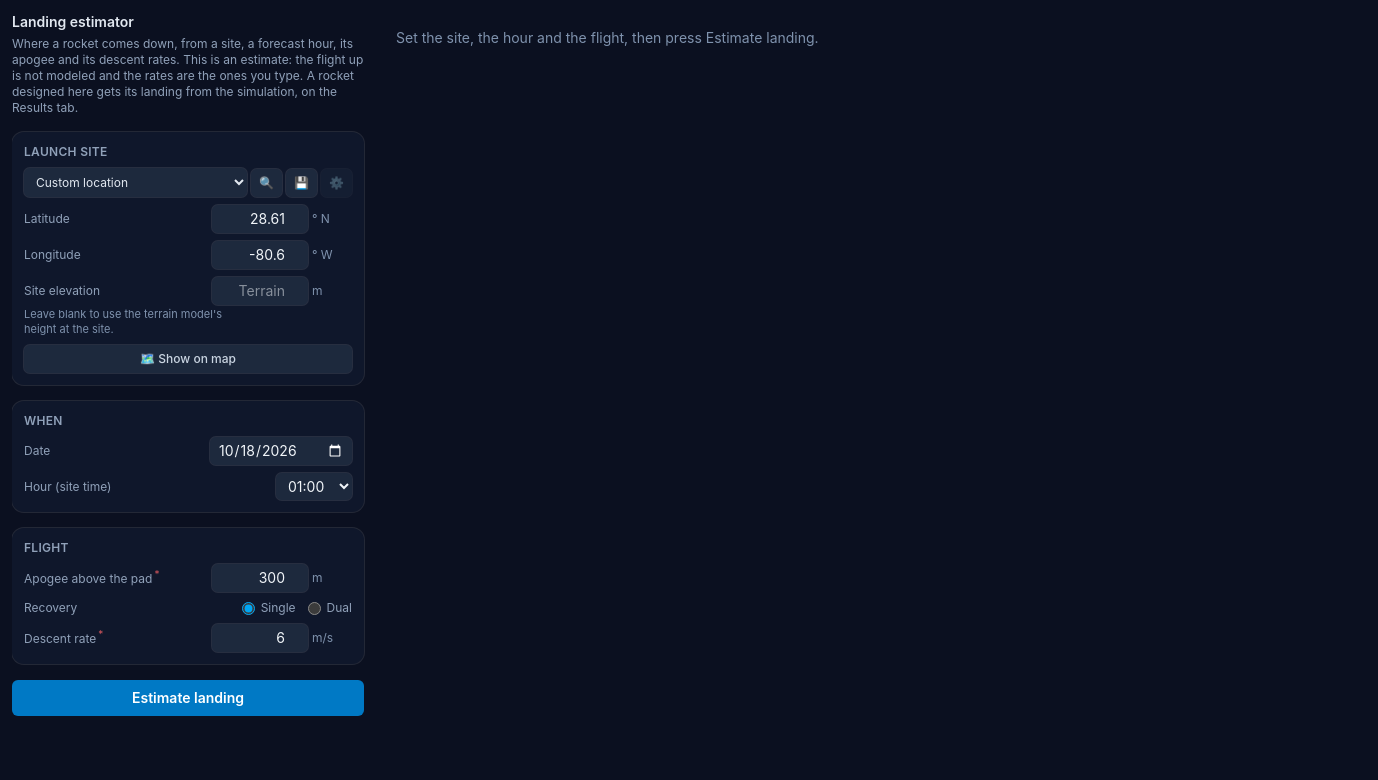
Test case: prints the landing bearing in the angle unit
Click the button "Estimate landing": [188, 698] box [12, 680, 364, 716]
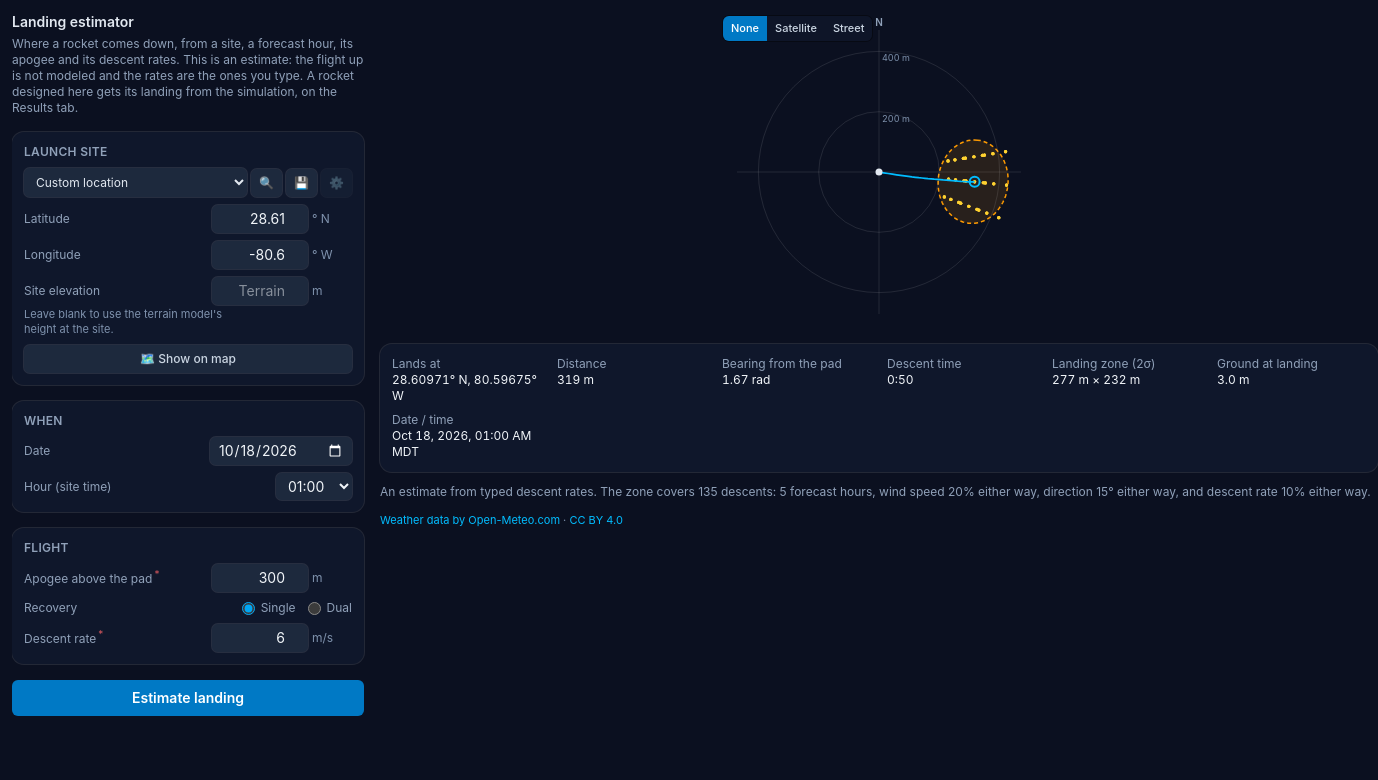
Expected: the text "Lands at" is shown, [392, 356, 440, 371]
